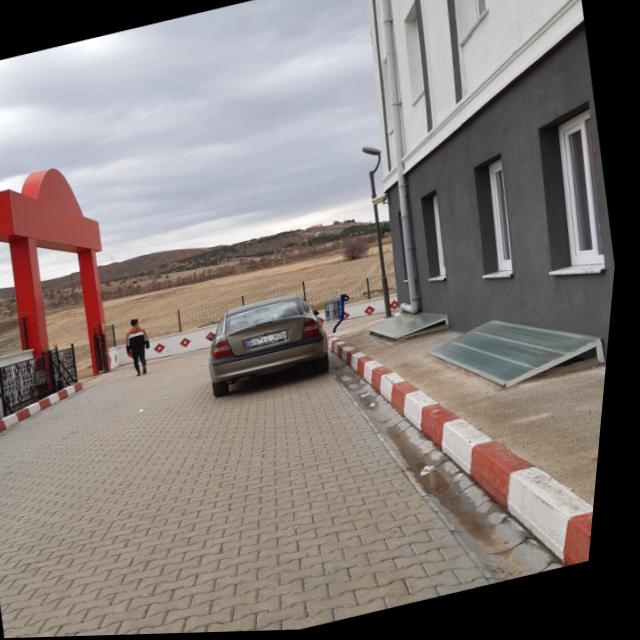license_plate: (252, 332, 294, 350)
